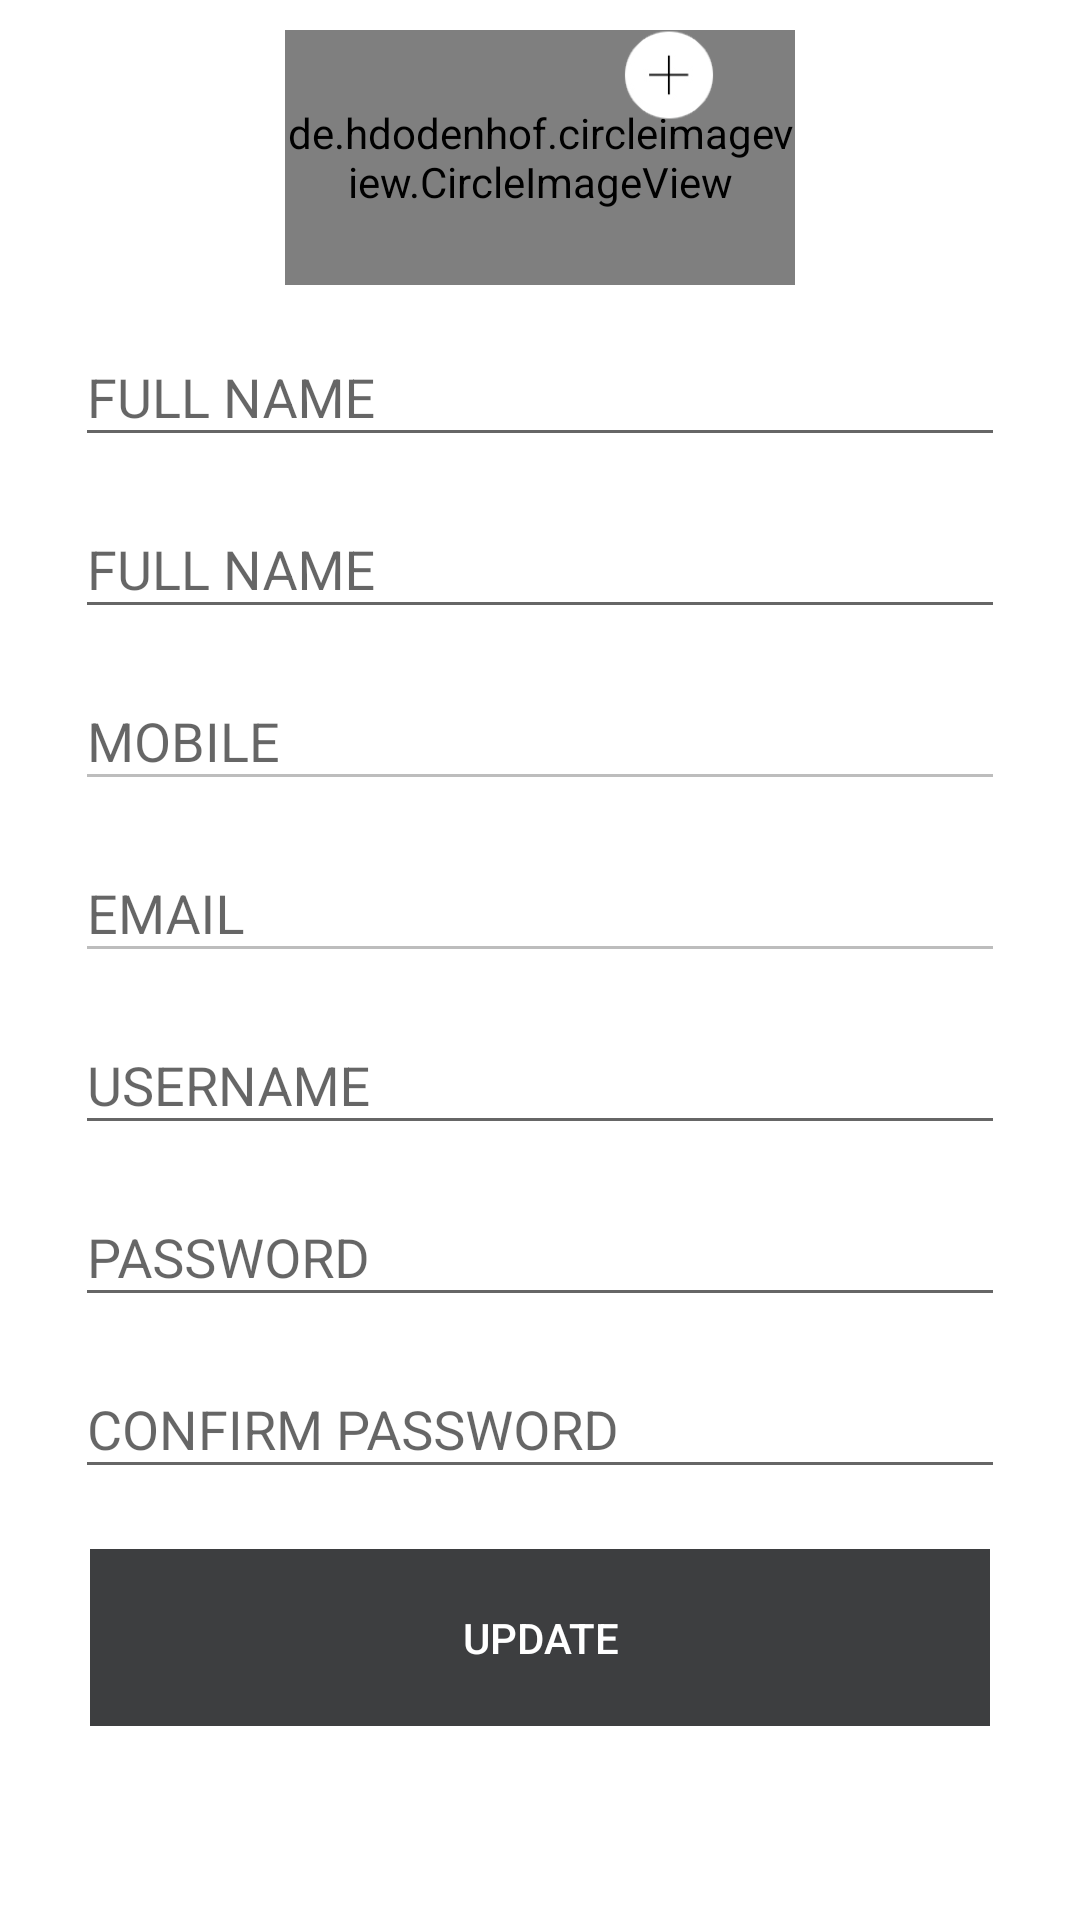

Locate icon controls on the screen. Image size 1080 × 1920, boxes as (x1, y1, x2, y2).
plus: (625, 31, 713, 120)
